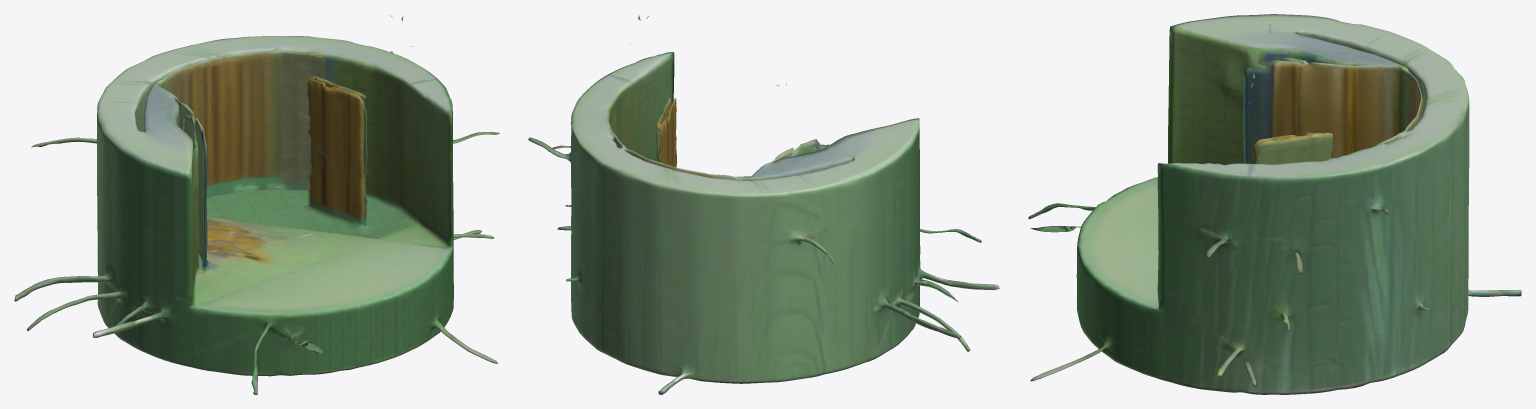
The picture shows the model from 3 angles, left to right: view 1: azimuth 30°, elevation 25°; view 2: azimuth 150°, elevation 25°; view 3: azimuth 270°, elevation 25°; orthographic projection. The views are drawn at different scales.
Visible parts, largest first — view 1: Mesh_0; view 2: Mesh_0; view 3: Mesh_0.
Boxes of the visible parts, x1,y1,x2,y2 form: Mesh_0: [14, 15, 499, 394]; Mesh_0: [528, 15, 999, 394]; Mesh_0: [1028, 14, 1521, 394].
Bounding box in the file's own units: 2.01 × 1.22 × 1.77.
1 material, 1 textured.
